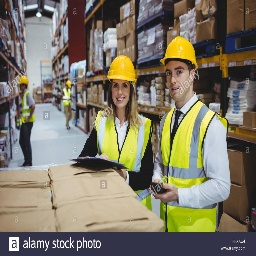helmet: (160, 36, 201, 76), (104, 54, 140, 85), (16, 75, 31, 88), (63, 77, 74, 91)
person: (158, 34, 233, 227), (91, 52, 156, 198), (14, 71, 40, 170), (61, 80, 77, 132)
vest: (162, 103, 229, 229), (96, 107, 155, 182), (18, 91, 37, 127), (61, 86, 73, 109)
